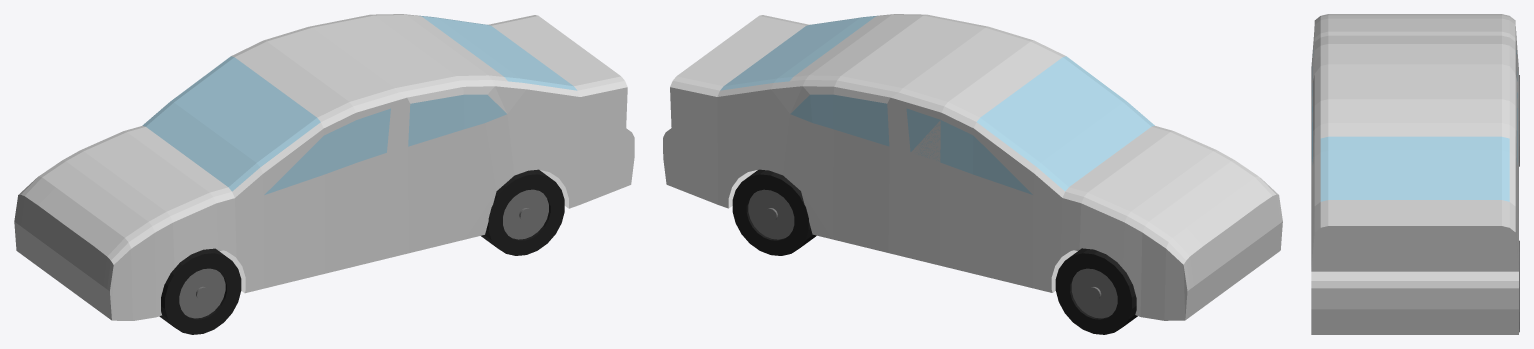
Rendered from bolid_hyundai.fbx.
3 renders of one model, left to right at view 1: azimuth 30°, elevation 25°; view 2: azimuth 150°, elevation 25°; view 3: azimuth 270°, elevation 25°, orthographic. The views are drawn at different scales.
Parts seen in each view (by area): view 1: Hundai, wheel.004, wheel.005; view 2: Hundai, wheel, wheel.003; view 3: Hundai.
Boxes of the visible parts, box(x1,y1,x2,y2) form: Hundai: box(14, 14, 634, 320); wheel.004: box(159, 248, 241, 334); wheel.005: box(481, 169, 564, 255); Hundai: box(663, 14, 1282, 320); wheel: box(1055, 248, 1137, 334); wheel.003: box(732, 169, 816, 255); Hundai: box(1311, 14, 1518, 334).
Bounding box in the file's own units: 490 × 171 × 161.
